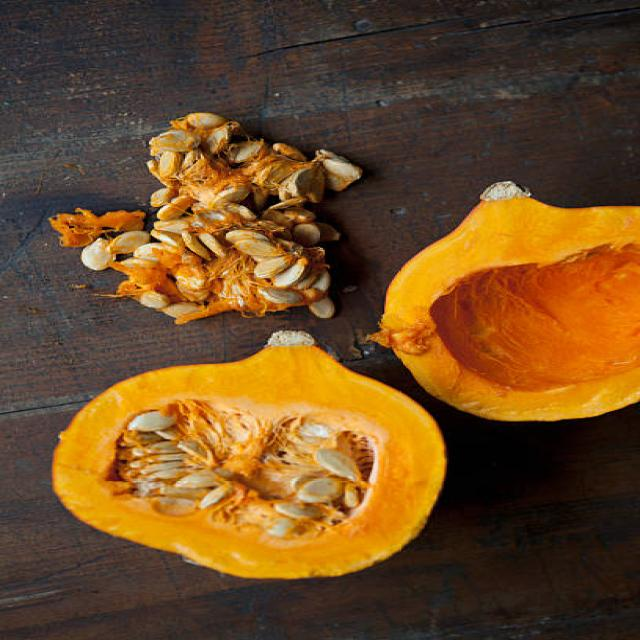pumpkin: (52, 331, 446, 578), (373, 181, 639, 421)
